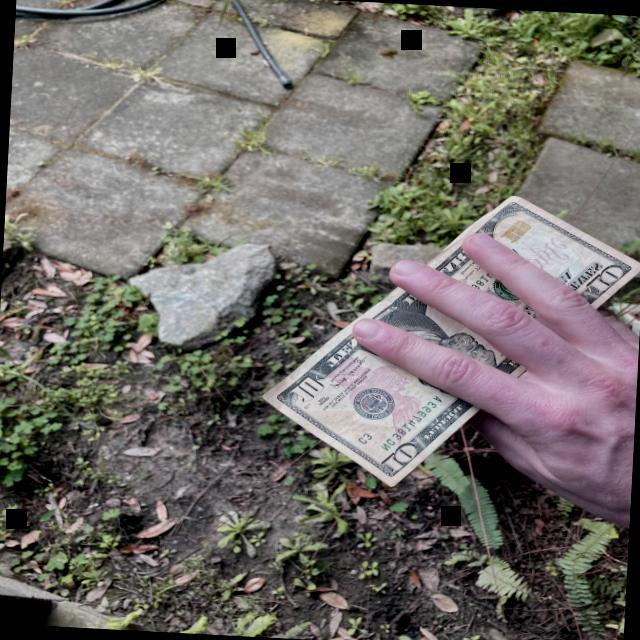ten: (261, 192, 640, 488)
